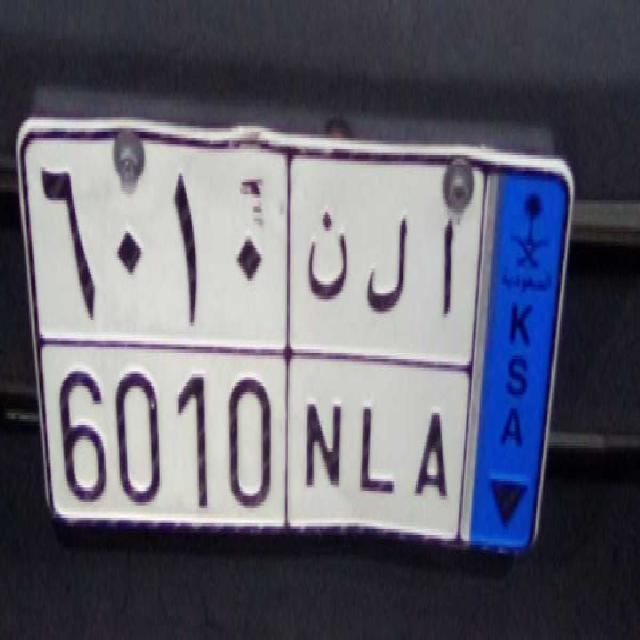license_plate: (35, 340, 463, 545)
